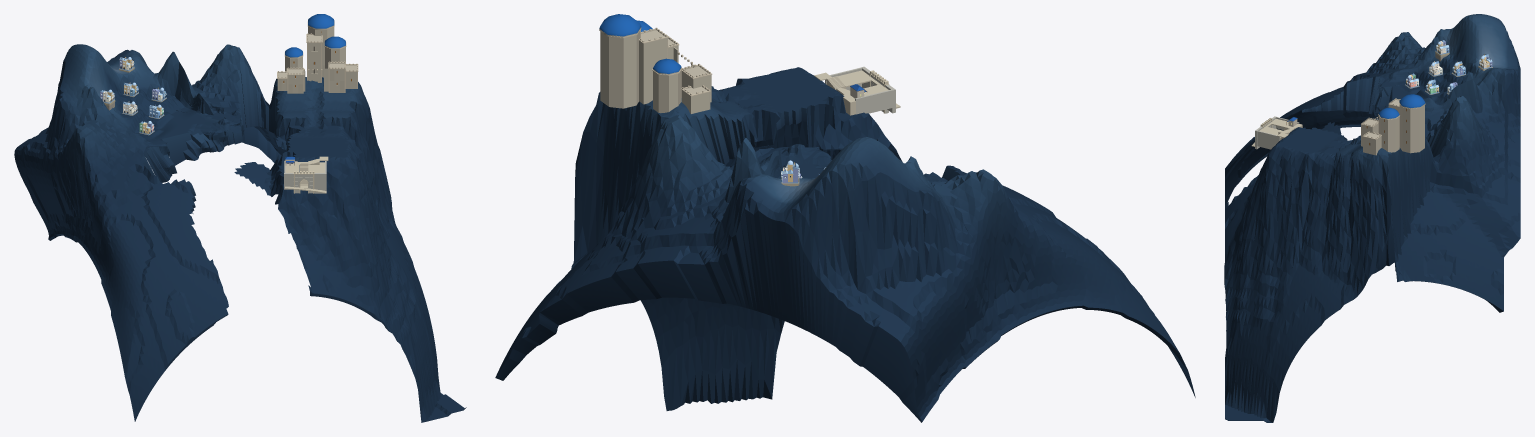
The model's file is citadel-master-terrain-placement-r02.glb.
3 renders of one model, left to right at view 1: azimuth 30°, elevation 25°; view 2: azimuth 150°, elevation 25°; view 3: azimuth 270°, elevation 25°, orthographic. The views are drawn at different scales.
Parts seen in each view (by area): view 1: citadel-oskar-grid-mountain-surface, citadel-coastal-cliff-seal, target-castle-exterior (×3); view 2: citadel-oskar-grid-mountain-surface, target-castle-exterior (×3), citadel-coastal-cliff-seal, integrated-return-wall; view 3: citadel-oskar-grid-mountain-surface, target-castle-exterior (×3), citadel-coastal-cliff-seal, integrated-return-wall.
Part boxes in pixels (x1,y1,x2,y2): citadel-oskar-grid-mountain-surface: [14, 44, 466, 422]; citadel-coastal-cliff-seal: [142, 61, 290, 213]; target-castle-exterior (×3): [277, 14, 358, 93]; citadel-oskar-grid-mountain-surface: [495, 67, 1195, 422]; target-castle-exterior (×3): [599, 14, 712, 113]; citadel-coastal-cliff-seal: [682, 107, 959, 180]; integrated-return-wall: [855, 89, 893, 114]; citadel-oskar-grid-mountain-surface: [1224, 14, 1520, 422]; target-castle-exterior (×3): [1361, 94, 1425, 155]; citadel-coastal-cliff-seal: [1302, 76, 1450, 157]; integrated-return-wall: [1257, 130, 1280, 149].
Bounding box in the file's own units: 222 × 211 × 185.
Materials: 104 (1 with a texture image).
